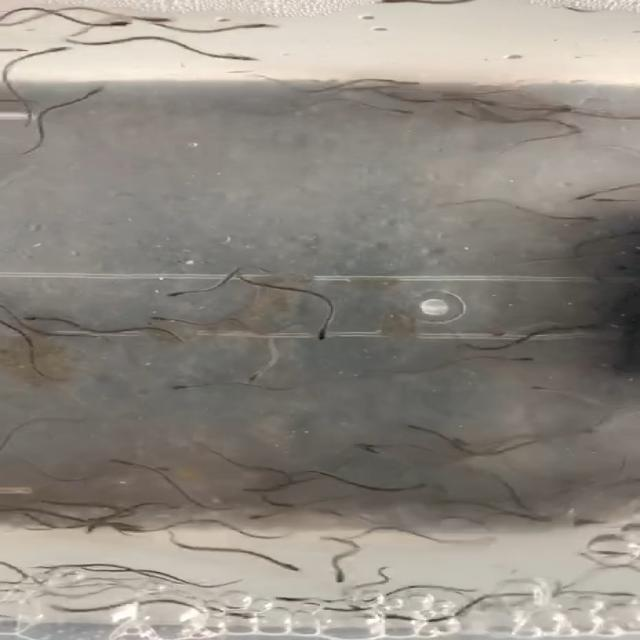active_glass_eel: (271, 551, 313, 577), (385, 75, 430, 94), (395, 477, 437, 497), (163, 378, 203, 396), (76, 512, 108, 534), (233, 49, 267, 69), (248, 366, 273, 391), (310, 323, 340, 343), (545, 103, 589, 115), (23, 310, 52, 328), (397, 420, 431, 435), (581, 315, 605, 336), (448, 108, 479, 124), (98, 452, 128, 468), (256, 18, 282, 36), (47, 42, 73, 60), (384, 104, 415, 119), (235, 482, 264, 498), (569, 210, 602, 223), (234, 508, 264, 522), (328, 570, 361, 582), (82, 82, 108, 97), (469, 97, 499, 110), (526, 380, 548, 396), (577, 188, 596, 206), (152, 311, 173, 326), (594, 195, 613, 210), (523, 352, 538, 370), (107, 20, 126, 33), (149, 13, 171, 24), (34, 494, 54, 504), (12, 42, 25, 56)
